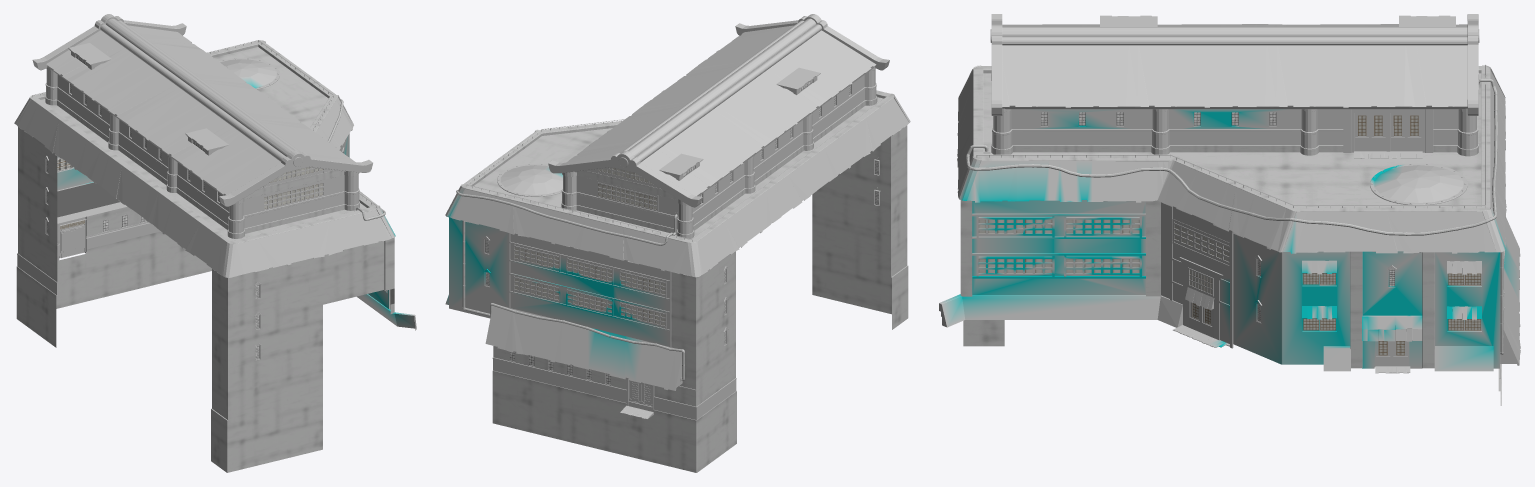
File: SM_ENV_KNVLLG_AreaB_Building_A_Part_02.mo.fbx
3 views of the same model, side by side, from view 1: azimuth 30°, elevation 25°; view 2: azimuth 150°, elevation 25°; view 3: azimuth 270°, elevation 25° (orthographic). The views are drawn at different scales.
Visible parts, largest first — view 1: SM_ENV_KNVLLG_AreaB_Building_A_Part_02.mo; view 2: SM_ENV_KNVLLG_AreaB_Building_A_Part_02.mo; view 3: SM_ENV_KNVLLG_AreaB_Building_A_Part_02.mo.
Part boxes in pixels (bbox=[...]): SM_ENV_KNVLLG_AreaB_Building_A_Part_02.mo: bbox=[14, 14, 416, 472]; SM_ENV_KNVLLG_AreaB_Building_A_Part_02.mo: bbox=[445, 14, 910, 472]; SM_ENV_KNVLLG_AreaB_Building_A_Part_02.mo: bbox=[939, 14, 1520, 405].
Bounding box in the file's own units: 39.49 × 42.24 × 59.89.
